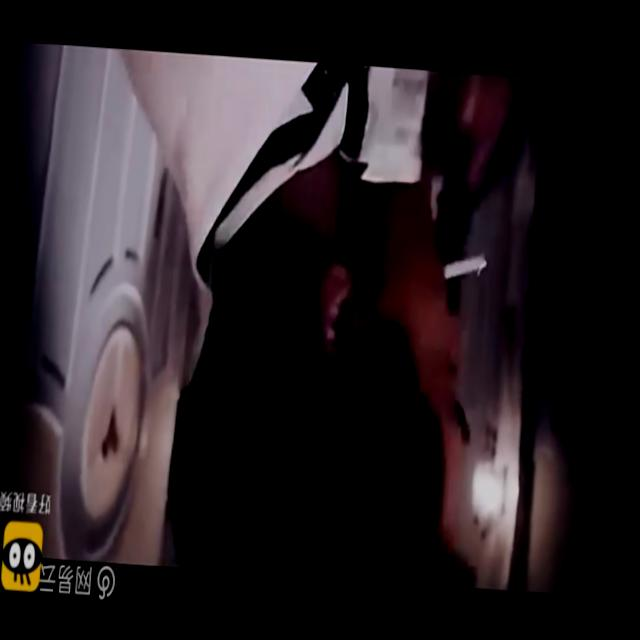cigarette: (438, 230, 492, 285)
